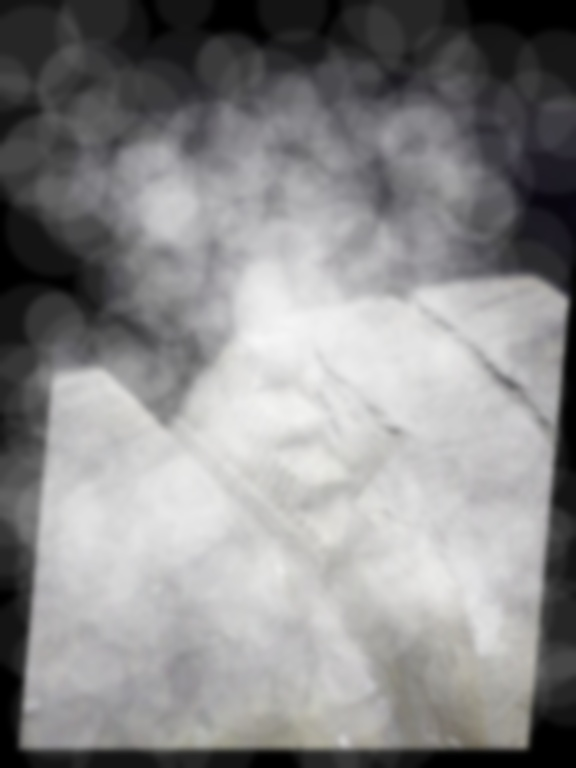temoin:80: (147, 299, 443, 570)
